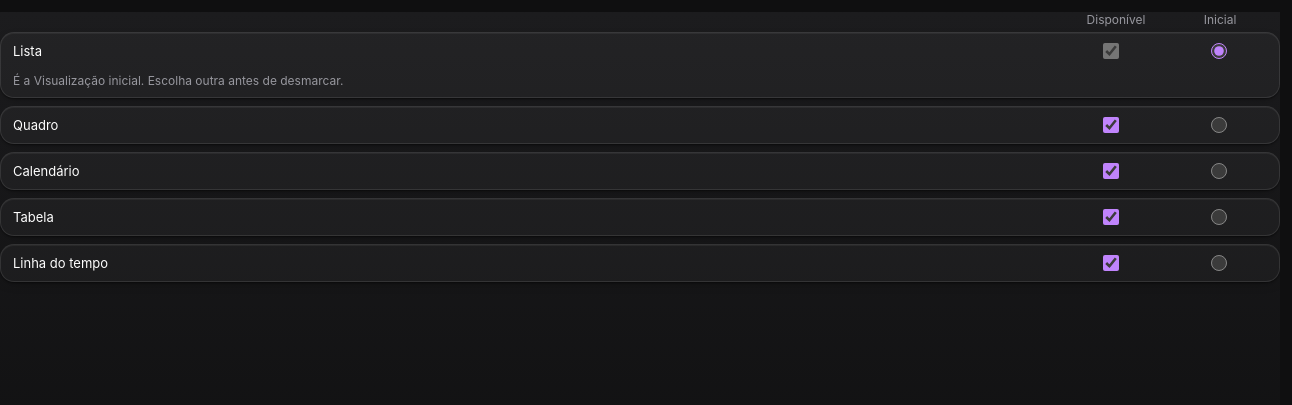
Test case: EditorDeVisualizacoesPadrao — o Espaço (EST-08) › desmarcar Calendário grava `disponiveis` sem `calendario` e cria a definição própria
The image size is (1292, 405).
Click the checkbox labelled "Calendário": (1111, 171) 1103,163 -> 1119,179
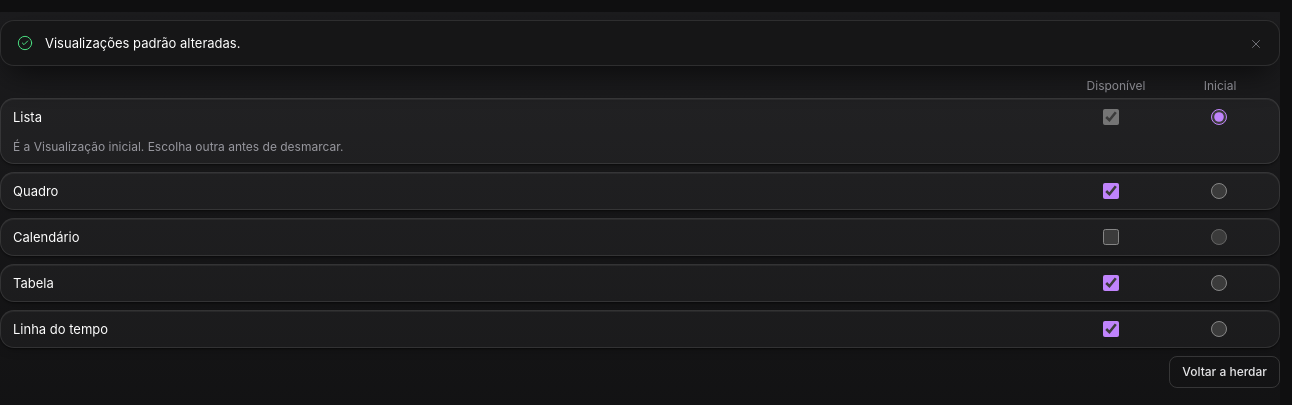
Now the checkbox labelled "Calendário" is not checked, box 1103,229 -> 1119,245
Now the text "Visualizações padrão alteradas." is shown, box 45,35 -> 240,51
Now the button "Voltar a herdar" is shown, box 1169,356 -> 1280,388
